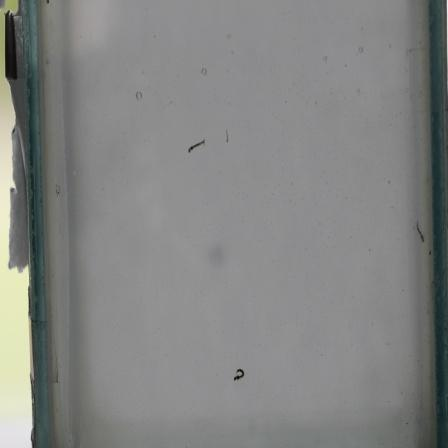Jentik-Nyamuk: (184, 133, 208, 157), (411, 219, 428, 247), (230, 365, 247, 383), (222, 125, 232, 147)
